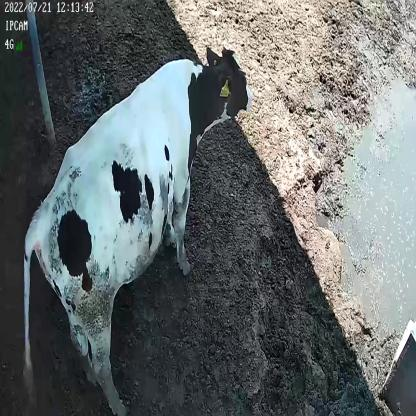cow: (20, 43, 253, 414)
